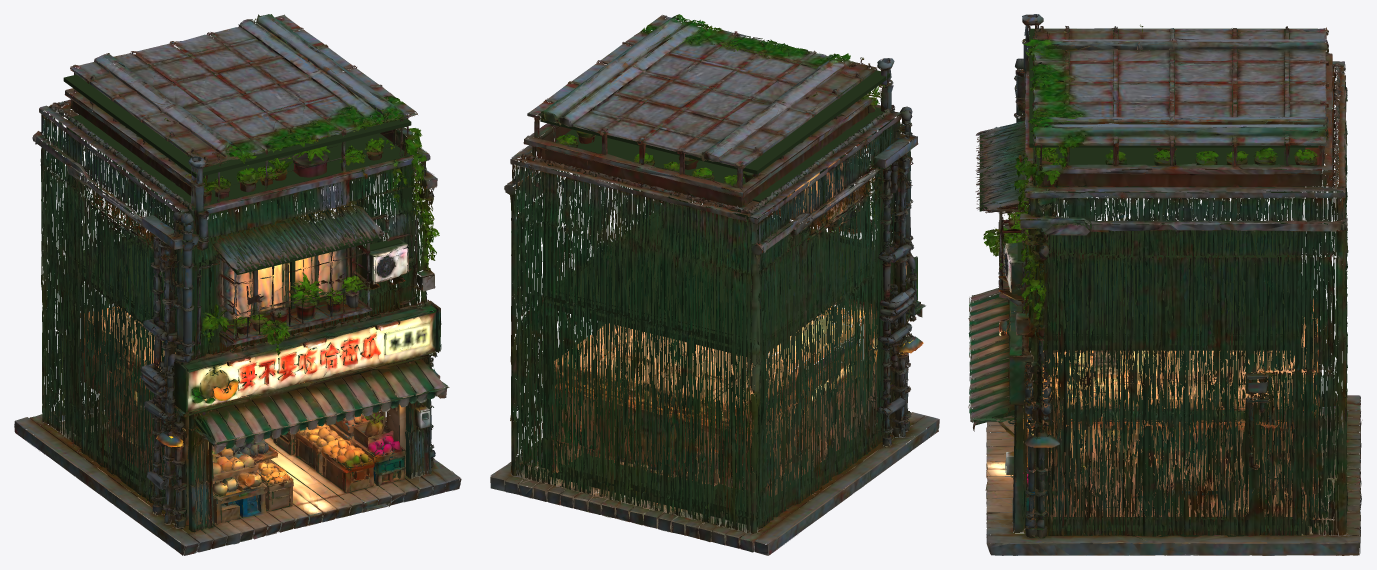
File: runner-shop-04.glb
The picture shows the model from 3 angles, left to right: view 1: azimuth 30°, elevation 25°; view 2: azimuth 150°, elevation 25°; view 3: azimuth 270°, elevation 25°; orthographic projection. The views are drawn at different scales.
Parts seen in each view (by area): view 1: cantaloupe-fruit-shop-v1; view 2: cantaloupe-fruit-shop-v1; view 3: cantaloupe-fruit-shop-v1.
Boxes of the visible parts, x1,y1,x2,y2 form: cantaloupe-fruit-shop-v1: [14, 14, 461, 555]; cantaloupe-fruit-shop-v1: [490, 14, 939, 555]; cantaloupe-fruit-shop-v1: [968, 14, 1362, 555].
Bounding box in the file's own units: 4.79 × 6.2 × 5.36.
1 material, 1 textured.
